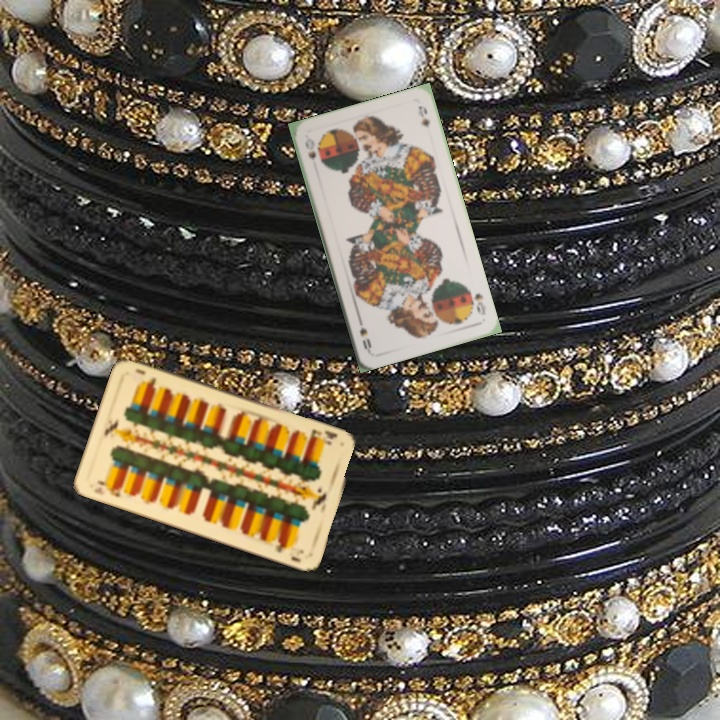E10: (304, 426, 340, 448), (92, 476, 124, 499)
SO: (465, 286, 489, 318), (301, 134, 319, 162)
